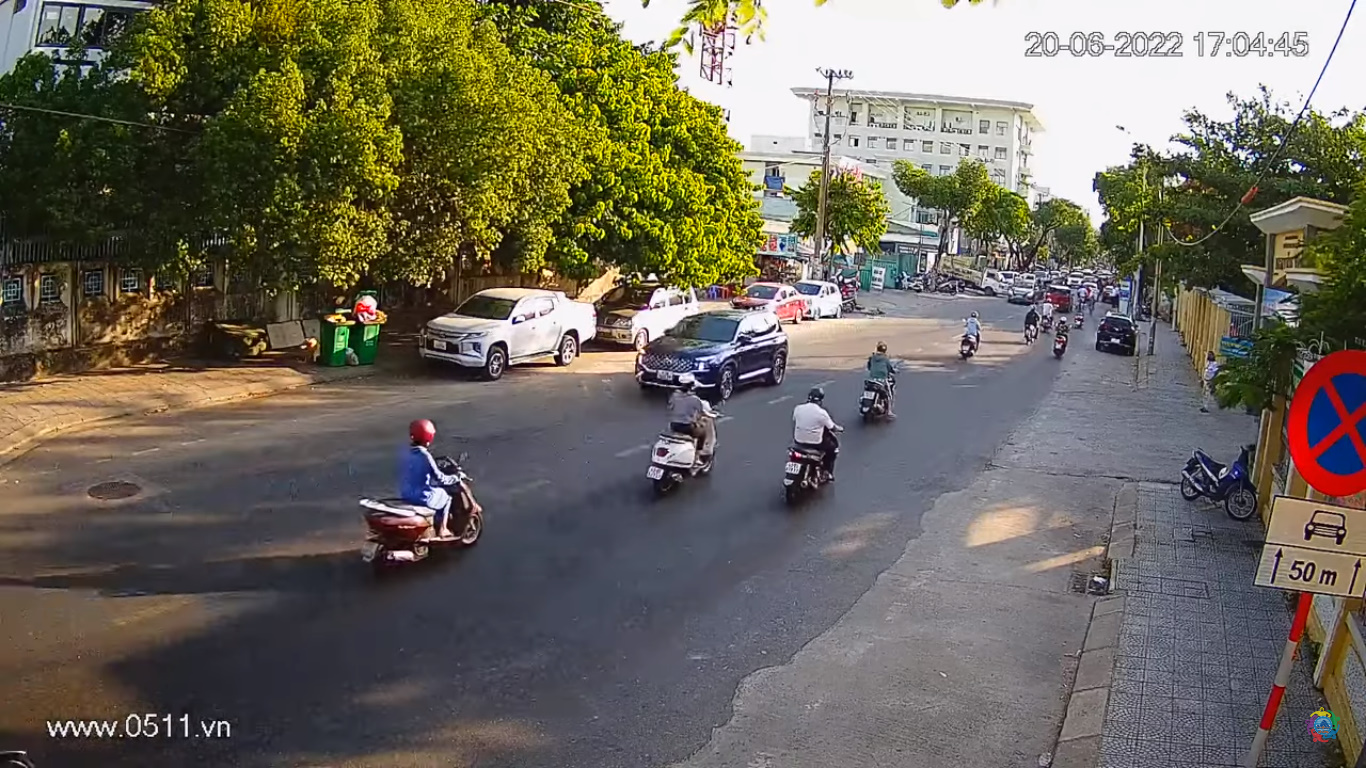car: (637, 300, 796, 408)
